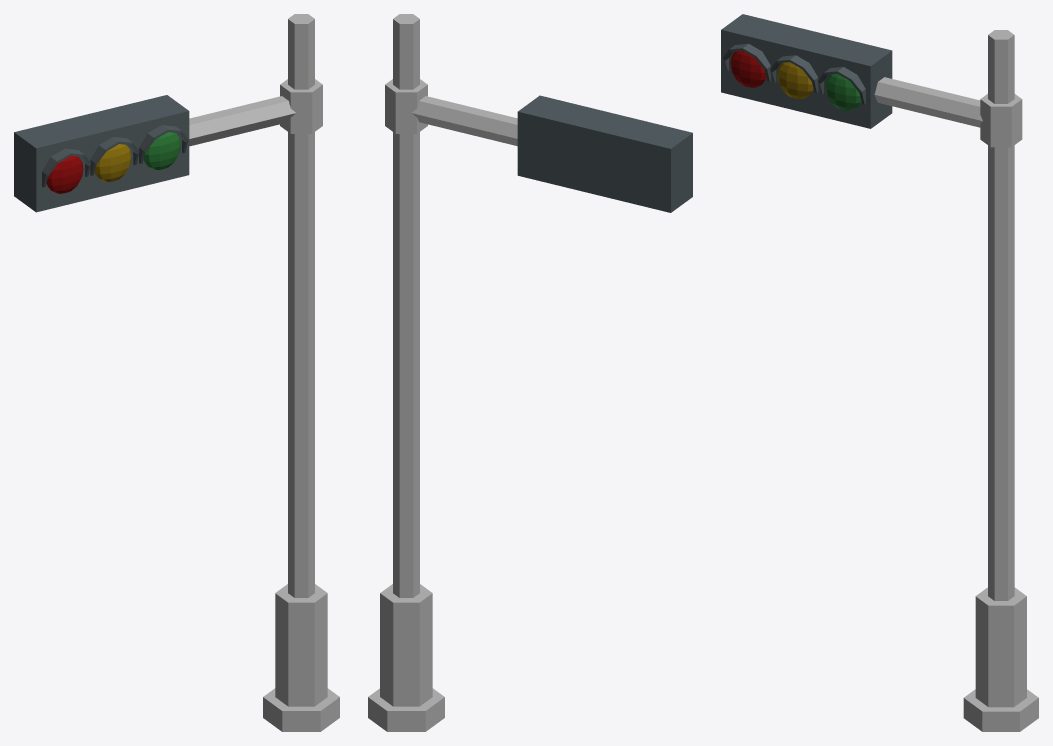
The model's file is traffic-light.gltf.
The picture shows the model from 3 angles, left to right: view 1: azimuth 30°, elevation 25°; view 2: azimuth 150°, elevation 25°; view 3: azimuth 330°, elevation 25°; orthographic projection. The views are drawn at different scales.
Visible parts, largest first — view 1: Props_Traffic Signal_big; view 2: Props_Traffic Signal_big; view 3: Props_Traffic Signal_big.
Boxes of the visible parts, x1,y1,x2,y2 form: Props_Traffic Signal_big: (14, 14, 339, 731); Props_Traffic Signal_big: (368, 14, 692, 731); Props_Traffic Signal_big: (721, 14, 1038, 731).
Bounding box in the file's own units: 2.75 × 6.02 × 0.6.
1 material, 1 textured.
